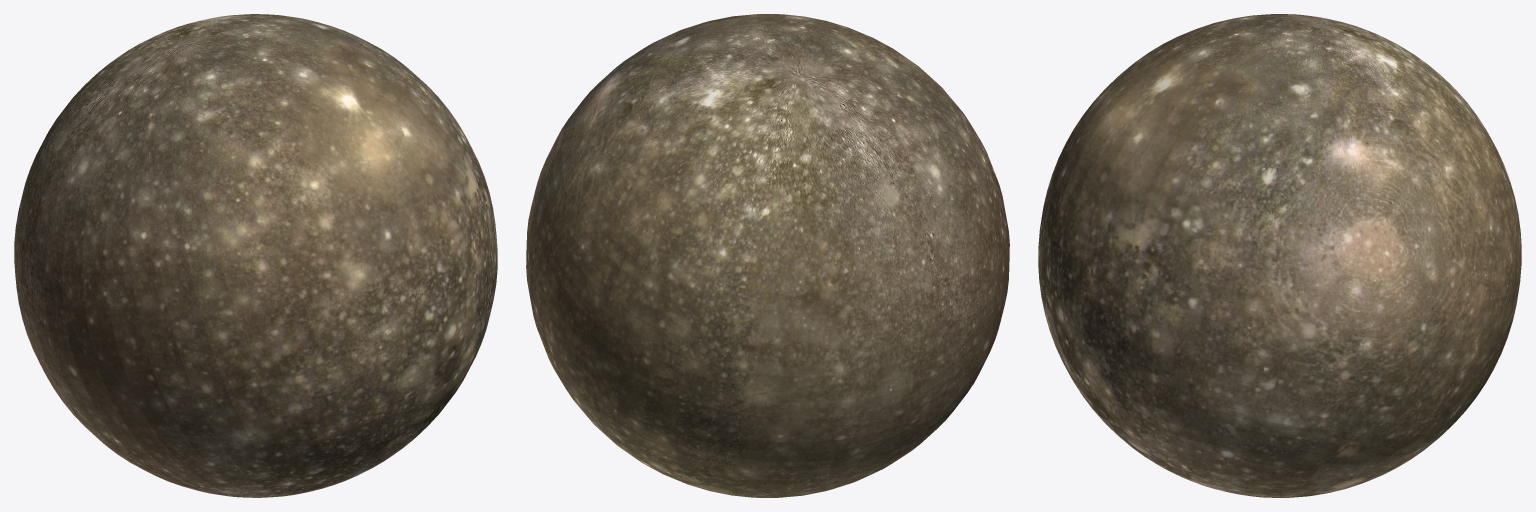
Rendered from callisto.obj.
3 renders of one model, left to right at view 1: azimuth 30°, elevation 25°; view 2: azimuth 150°, elevation 25°; view 3: azimuth 270°, elevation 25°, orthographic.
Visible parts, largest first — view 1: Plane; view 2: Plane; view 3: Plane.
Boxes of the visible parts, box(x1,y1,x2,y2) form: Plane: box(14, 14, 497, 497); Plane: box(526, 14, 1009, 497); Plane: box(1038, 14, 1521, 497).
Bounding box in the file's own units: 2.61 × 2.61 × 2.61.
Materials: 1 (1 with a texture image).
